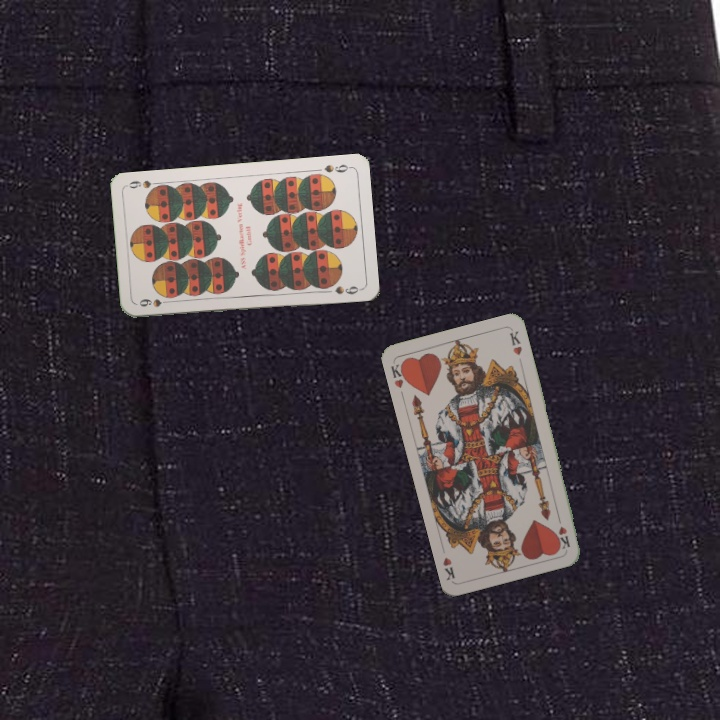HK: (553, 510, 573, 551), (387, 358, 411, 391)
S9: (135, 295, 175, 309), (320, 160, 353, 175)
